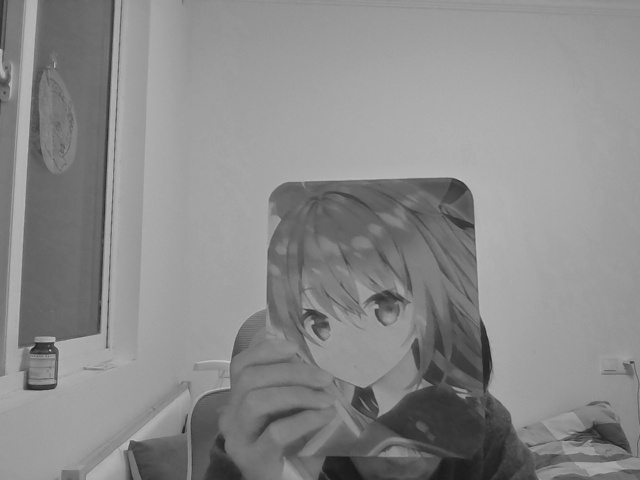face: (294, 266, 426, 394)
